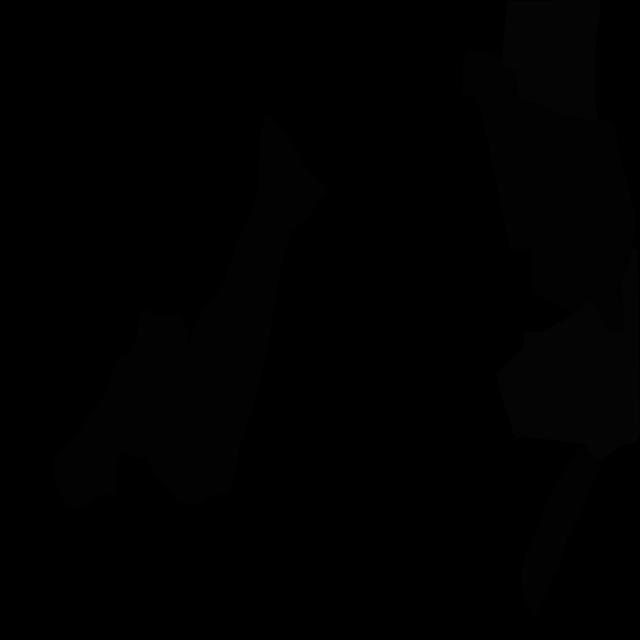cardboard: (147, 115, 328, 505), (461, 50, 636, 332), (54, 308, 189, 509), (521, 445, 602, 619)
soft_plastic: (496, 248, 640, 461), (502, 0, 600, 121)
